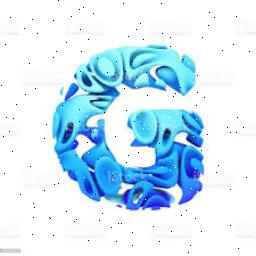g: (50, 38, 208, 212)
